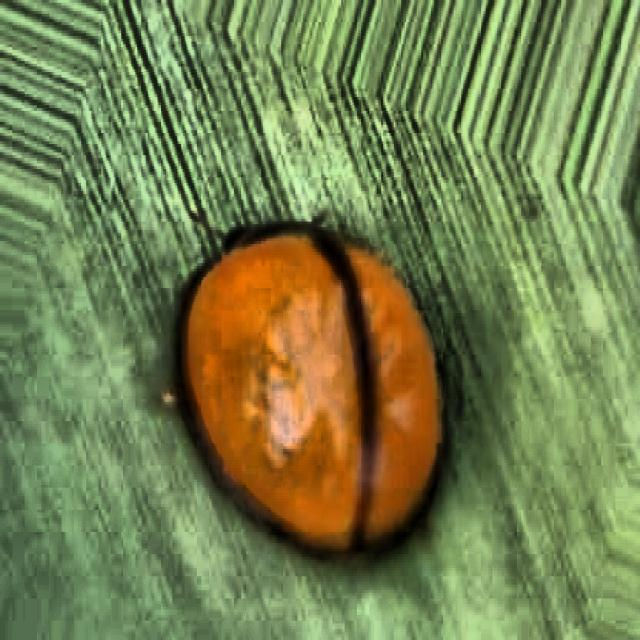Ladybug: (90, 141, 508, 640)
